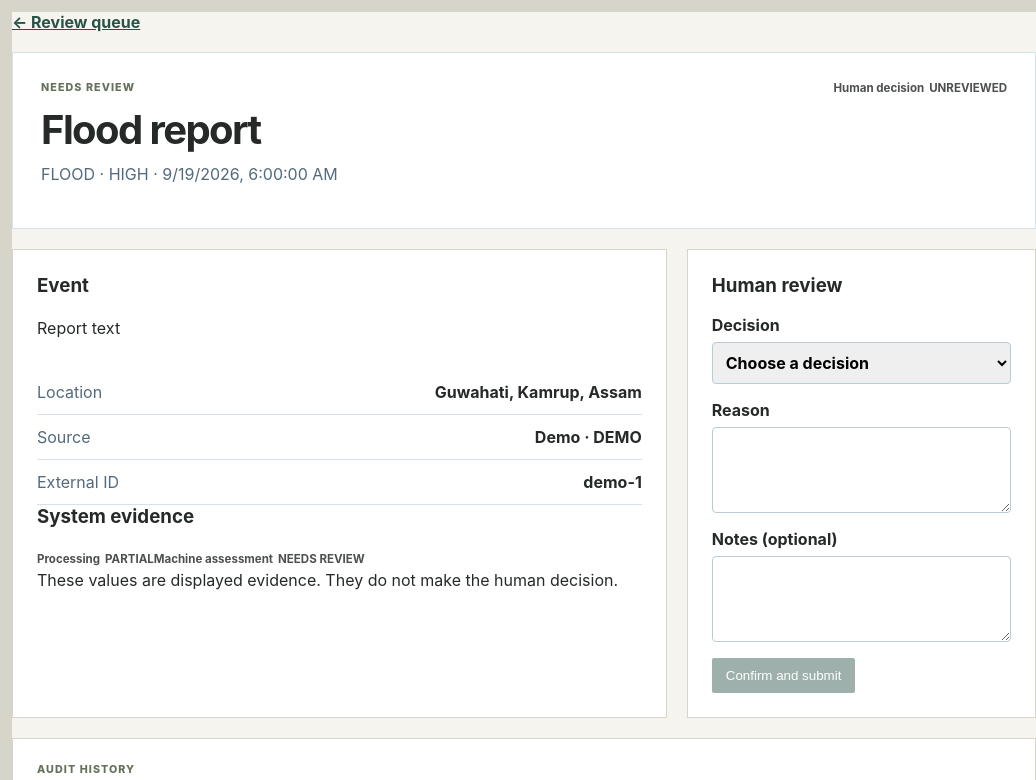
Test: review workspace presents a conflict message
Check: the heading "Flood report" is shown, box [41,105,260,154]
Select "Verify" in the dropdown named "Review action" at (861,363), box [712,342,1011,384]
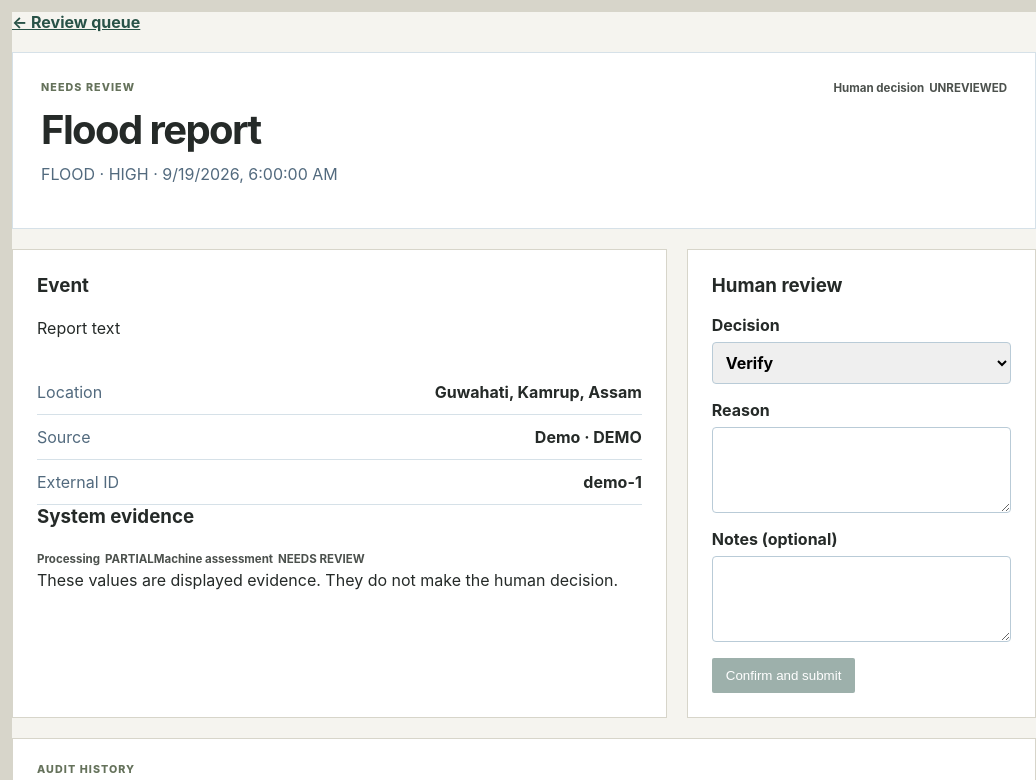
Type "Reviewed evidence" into the text box named "Review reason".
click(861, 470); type("Reviewed evidence")  # box [712,427,1011,513]
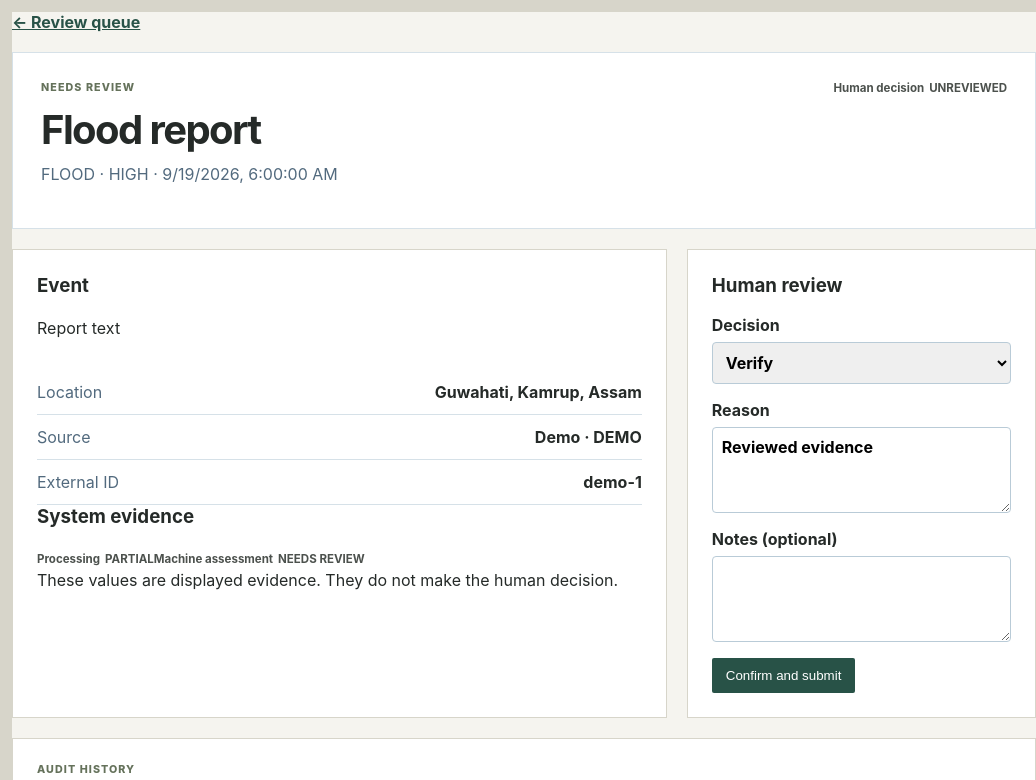
Click the button "Confirm and submit".
click(784, 676)  # box [712,658,855,693]
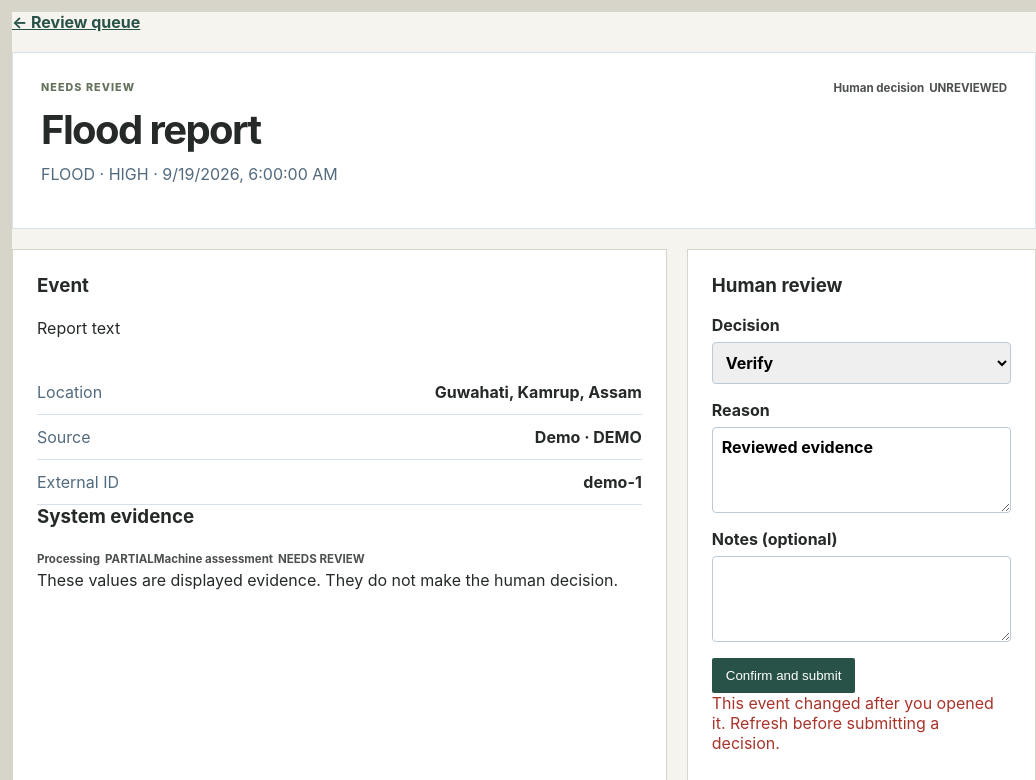
Check: the text "This event changed after you opened it. Refresh before submitting a decision." is shown, box [712,693,1011,753]
